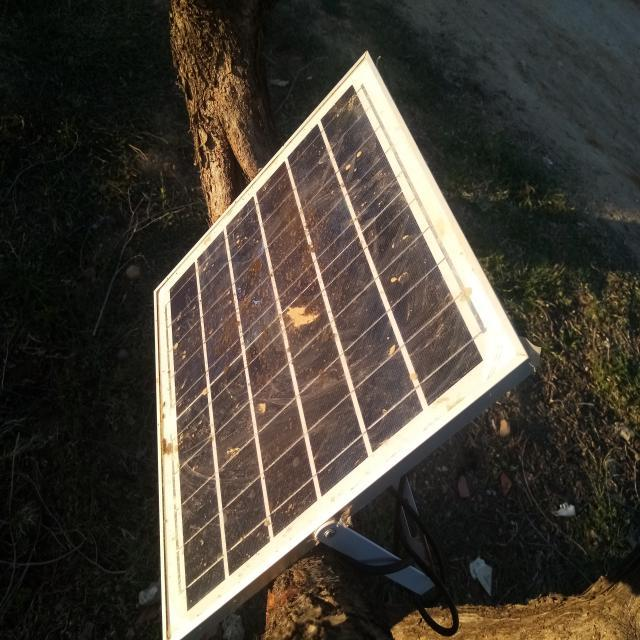faulty: (157, 57, 528, 640)
